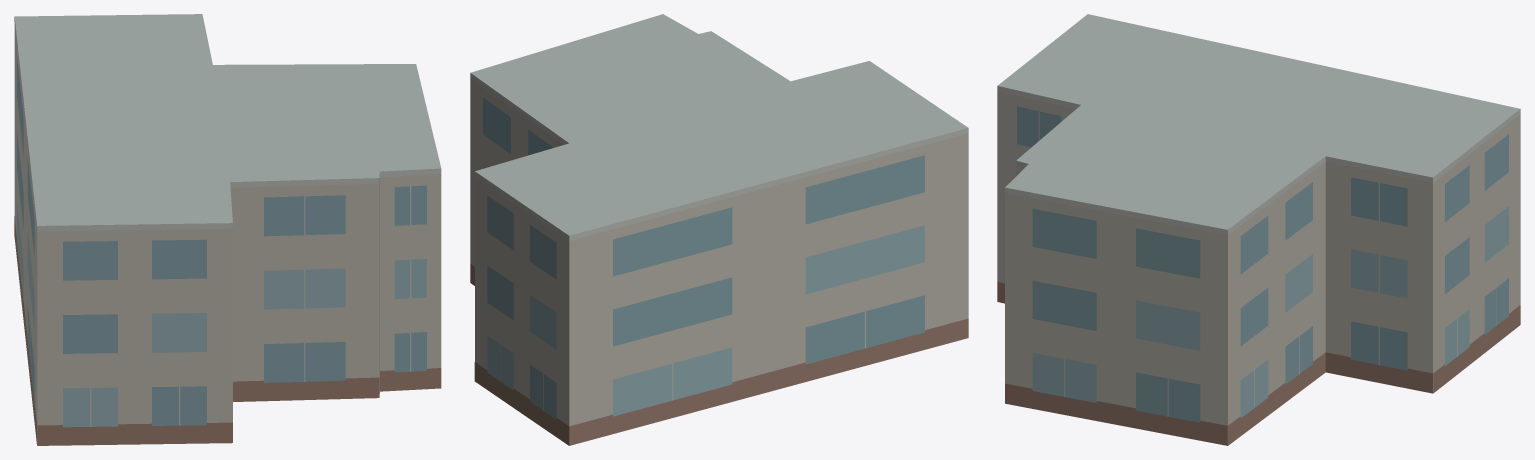
The model's file is survey-upis-32744348.glb.
The picture shows the model from 3 angles, left to right: view 1: azimuth 30°, elevation 25°; view 2: azimuth 150°, elevation 25°; view 3: azimuth 270°, elevation 25°; orthographic projection. The views are drawn at different scales.
Visible parts, largest first — view 1: survey-upis-32744348.tmp; view 2: survey-upis-32744348.tmp; view 3: survey-upis-32744348.tmp.
Part boxes in pixels (x1,y1,x2,y2): survey-upis-32744348.tmp: (14,14,441,445); survey-upis-32744348.tmp: (470,14,968,445); survey-upis-32744348.tmp: (997,14,1520,445).
Size of the model in its own units: 20.58 by 9.6 by 21.08.
